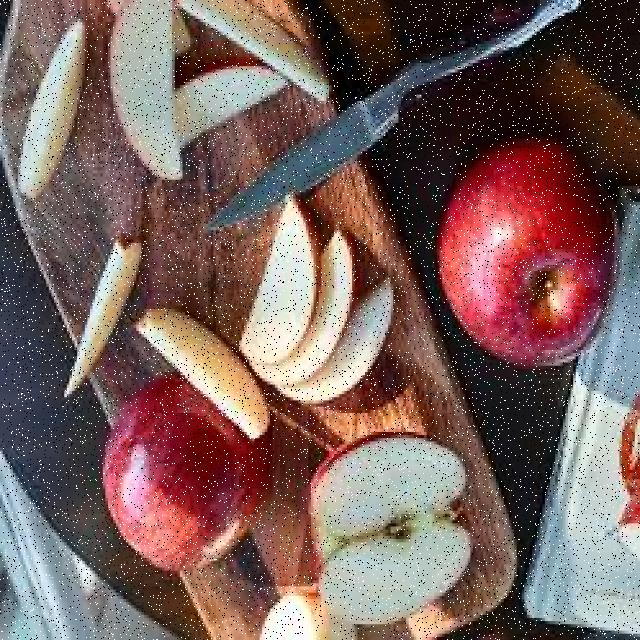Apple: (439, 140, 616, 373), (98, 391, 261, 573), (311, 440, 470, 624), (134, 314, 269, 432), (236, 188, 318, 372), (178, 0, 329, 92), (65, 229, 143, 404), (106, 0, 180, 183), (16, 21, 89, 202), (296, 274, 396, 400), (174, 61, 284, 156), (287, 230, 353, 386), (261, 592, 356, 636)
